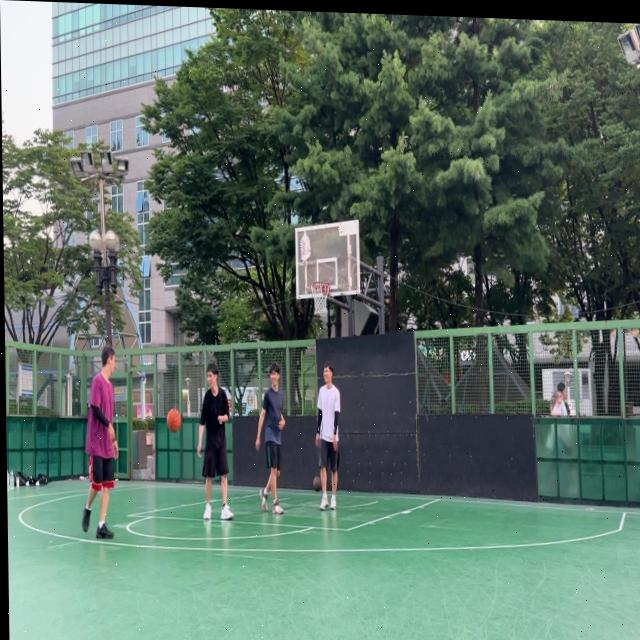basketball: (167, 407, 182, 432), (313, 476, 321, 492)
hoop: (311, 281, 331, 318)
